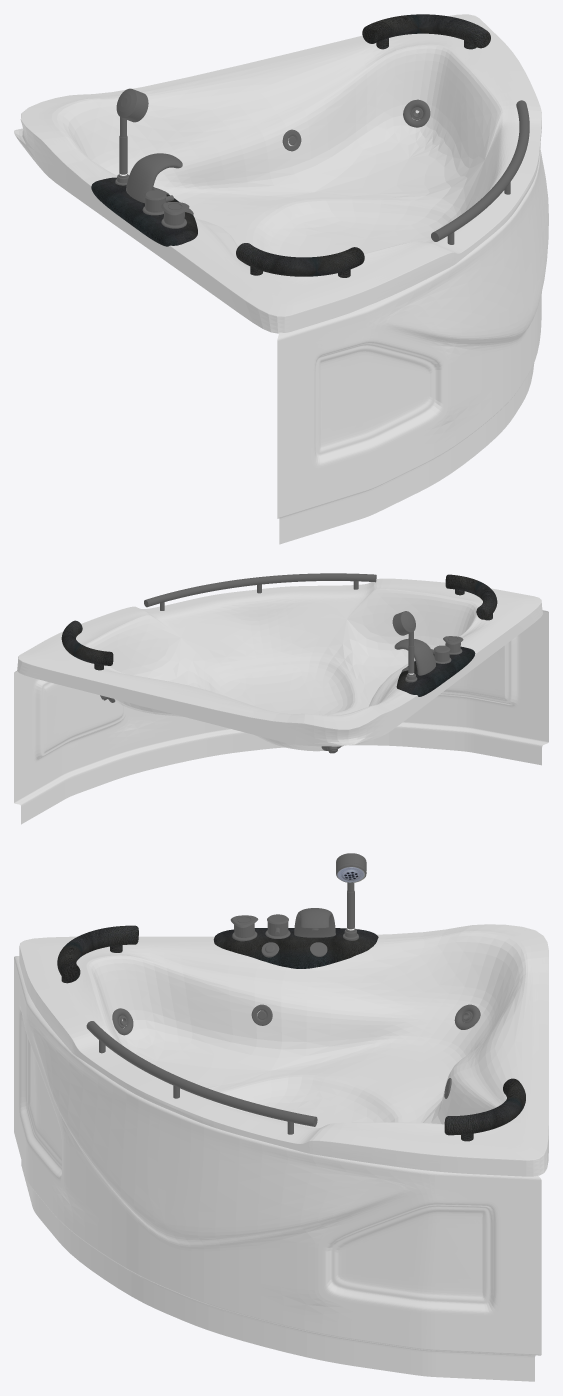
File: AS236-HIDRO-ESQ.glb
3 renders of one model, top to bottom at view 1: azimuth 30°, elevation 25°; view 2: azimuth 150°, elevation 25°; view 3: azimuth 270°, elevation 25°, orthographic. The views are drawn at different scales.
Parts seen in each view (by area): view 1: Cylinder001, Torus004, ChamferCyl001, Box001; view 2: Cylinder001, Torus004, ChamferCyl001, Box001; view 3: Cylinder001, Torus004, ChamferCyl001, Box001.
Boxes of the visible parts, x1,y1,x2,y2 form: Cylinder001: (14, 14, 548, 544); Torus004: (115, 88, 529, 244); ChamferCyl001: (236, 14, 490, 277); Box001: (91, 177, 197, 246); Cylinder001: (14, 578, 548, 824); Torus004: (100, 573, 463, 753); ChamferCyl001: (61, 574, 497, 670); Box001: (396, 646, 475, 696); Cylinder001: (14, 924, 548, 1381); Torus004: (86, 853, 480, 1134); ChamferCyl001: (57, 925, 525, 1141); Box001: (213, 928, 378, 968).
Size of the model in its own units: 1.5 by 0.9949 by 1.5.
Materials: 5 (2 with a texture image).
